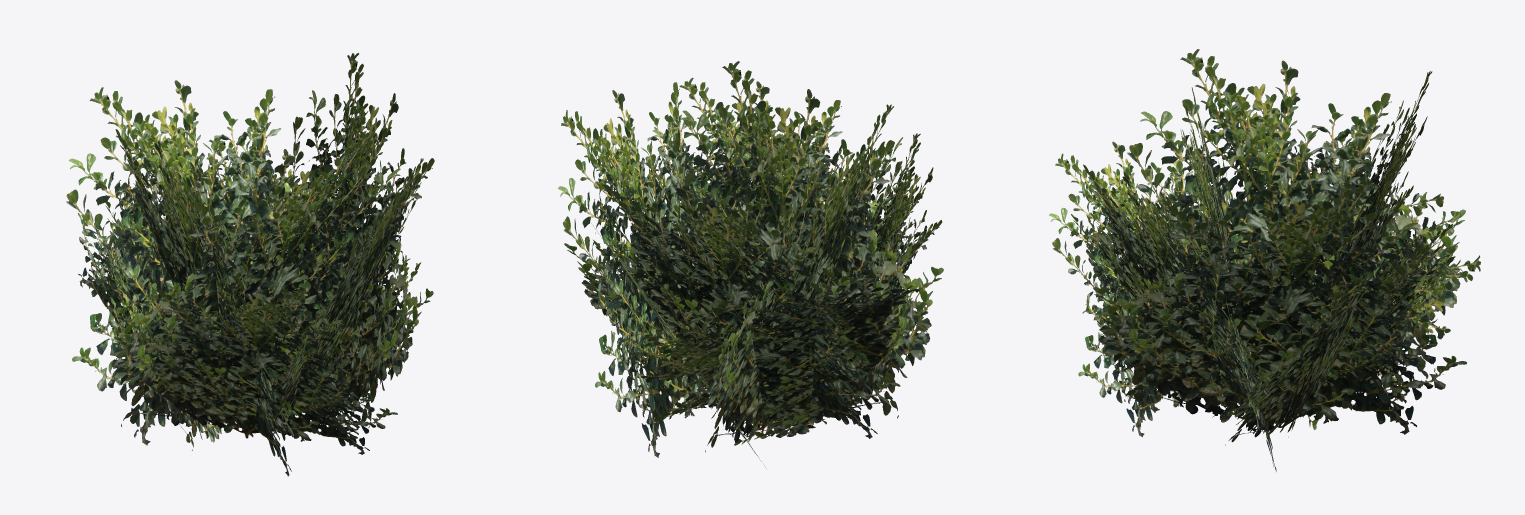
The model's file is Bush_With_Out.fbx.
The picture shows the model from 3 angles, left to right: view 1: azimuth 30°, elevation 25°; view 2: azimuth 150°, elevation 25°; view 3: azimuth 270°, elevation 25°; orthographic projection. The views are drawn at different scales.
Parts seen in each view (by area): view 1: Bush_Without; view 2: Bush_Without; view 3: Bush_Without.
Part boxes in pixels (bbox=[...]): Bush_Without: bbox=[66, 53, 434, 476]; Bush_Without: bbox=[558, 61, 943, 467]; Bush_Without: bbox=[1049, 49, 1480, 471].
Bounding box in the file's own units: 3.09 × 2.57 × 3.52.
Materials: 1 (1 with a texture image).
